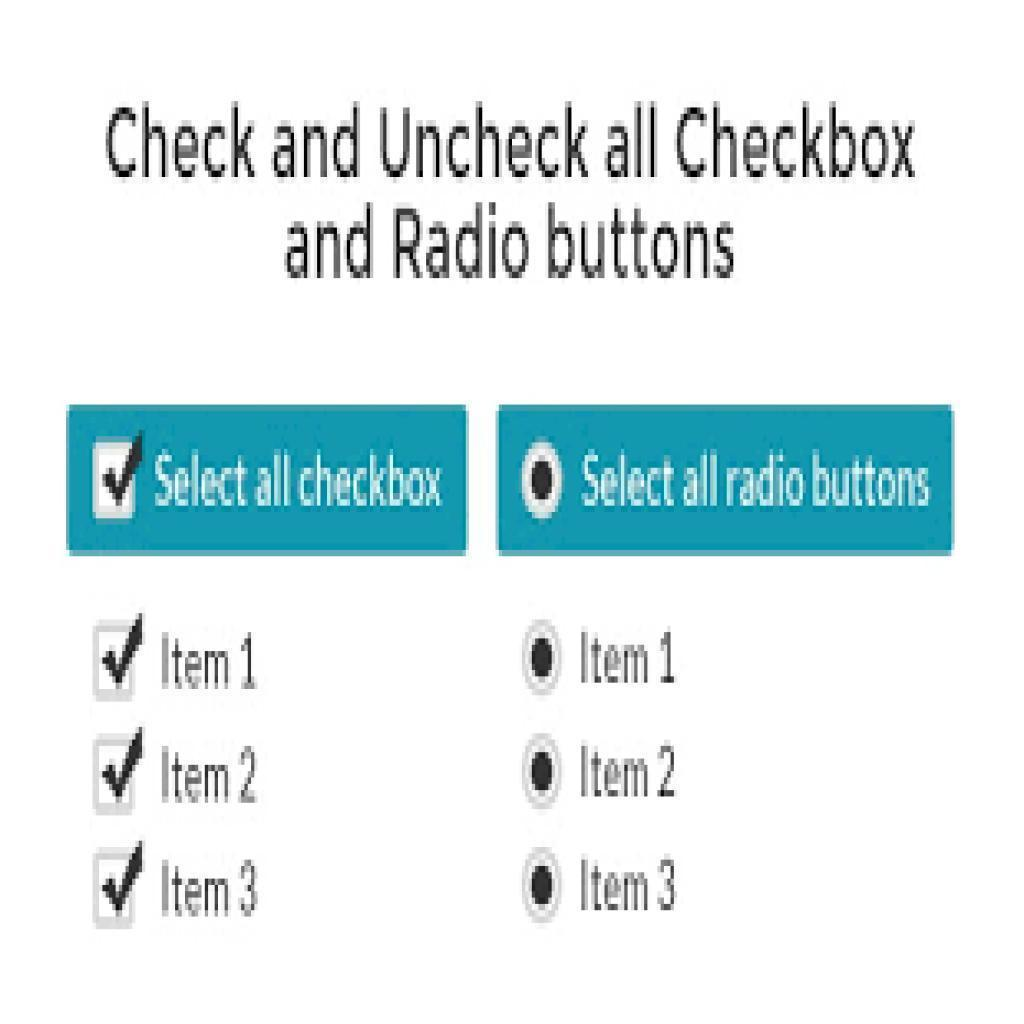checkbox: (94, 739, 142, 813), (92, 622, 138, 699), (94, 442, 137, 519), (95, 851, 133, 924)
label: (584, 443, 936, 517), (156, 448, 446, 513), (158, 854, 280, 919), (155, 738, 261, 806), (574, 734, 674, 806), (575, 850, 682, 916), (578, 625, 679, 690), (153, 628, 258, 687)
radio: (519, 614, 568, 698), (518, 440, 563, 524), (520, 842, 562, 922), (523, 728, 562, 810)
